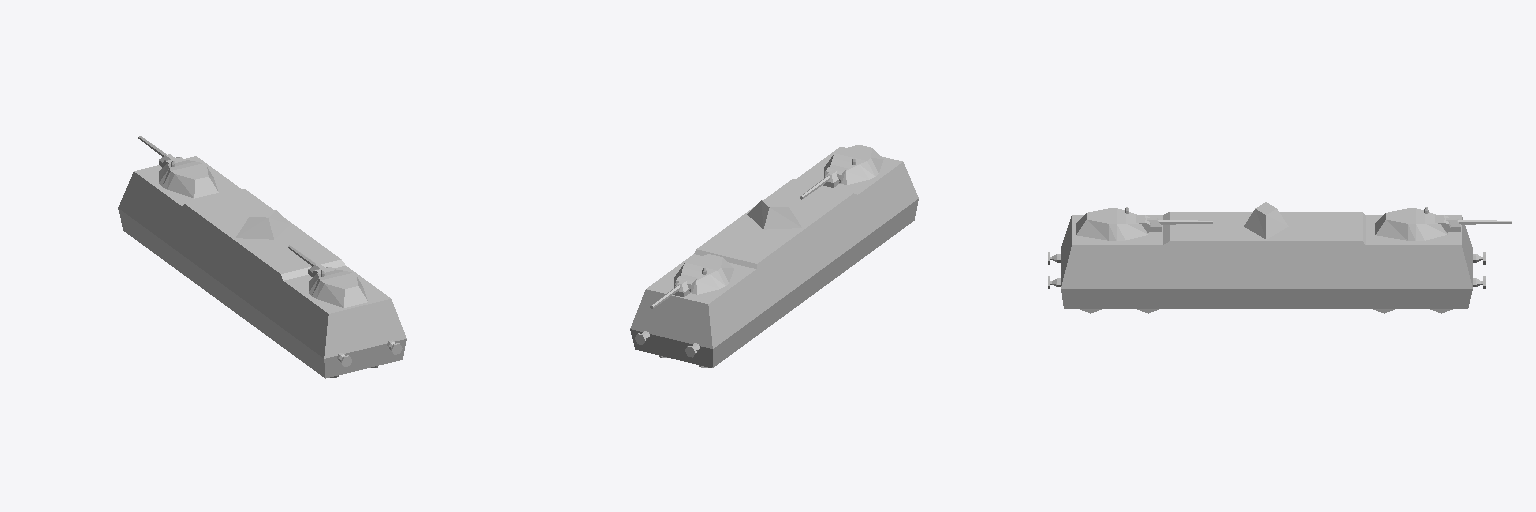
The model's file is minin-arty-wagon.obj.
3 views of the same model, side by side, from view 1: azimuth 30°, elevation 25°; view 2: azimuth 150°, elevation 25°; view 3: azimuth 270°, elevation 25° (orthographic).
Bounding box in the file's own units: 7.5 × 8.22 × 36.48.